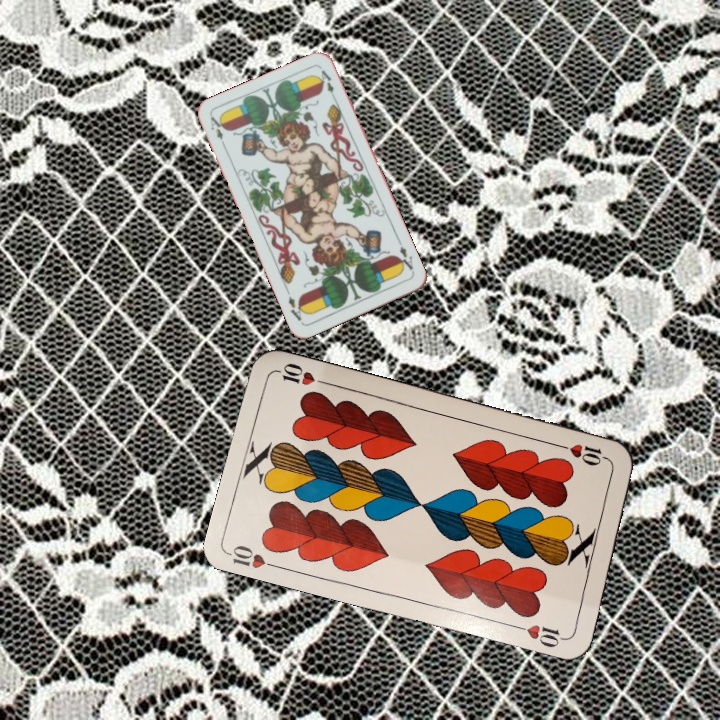EA: (393, 236, 417, 275), (206, 112, 229, 151)
H10: (226, 541, 284, 572), (555, 439, 613, 468)
